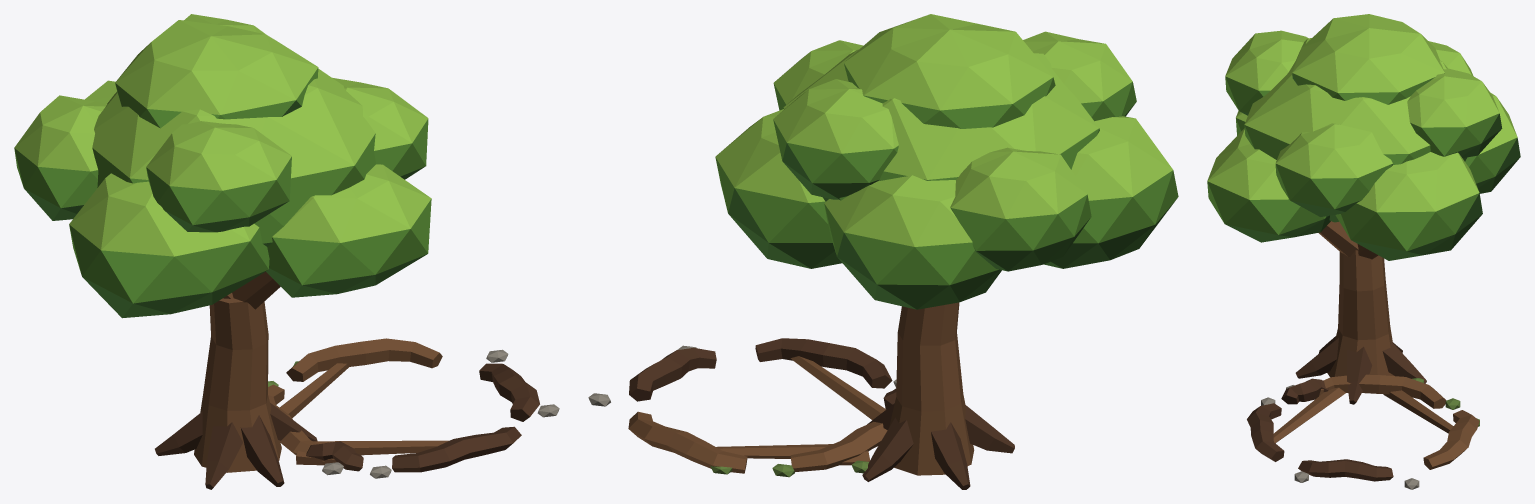
The model's file is Dorf_Dorflinde.fbx.
3 views of the same model, side by side, from view 1: azimuth 30°, elevation 25°; view 2: azimuth 150°, elevation 25°; view 3: azimuth 270°, elevation 25° (orthographic). The views are drawn at different scales.
Parts seen in each view (by area): view 1: Dorflinde_Krone, Dorf_Dorflinde, Dorflinde_Wurzeln; view 2: Dorflinde_Krone, Dorf_Dorflinde, Dorflinde_Wurzeln; view 3: Dorflinde_Krone, Dorflinde_Wurzeln, Dorf_Dorflinde.
Part boxes in pixels (x1=…): Dorflinde_Krone: x1=14, y1=14, x2=431, y2=318; Dorf_Dorflinde: x1=155, y1=271, x2=317, y2=489; Dorflinde_Wurzeln: x1=268, y1=338, x2=559, y2=478; Dorflinde_Krone: x1=715, y1=14, x2=1178, y2=309; Dorf_Dorflinde: x1=862, y1=302, x2=1014, y2=489; Dorflinde_Wurzeln: x1=588, y1=338, x2=896, y2=477; Dorflinde_Krone: x1=1207, y1=14, x2=1520, y2=260; Dorflinde_Wurzeln: x1=1247, y1=374, x2=1479, y2=489; Dorf_Dorflinde: x1=1295, y1=221, x2=1426, y2=404.
Size of the model in its own units: 14.41 by 12 by 10.01.
